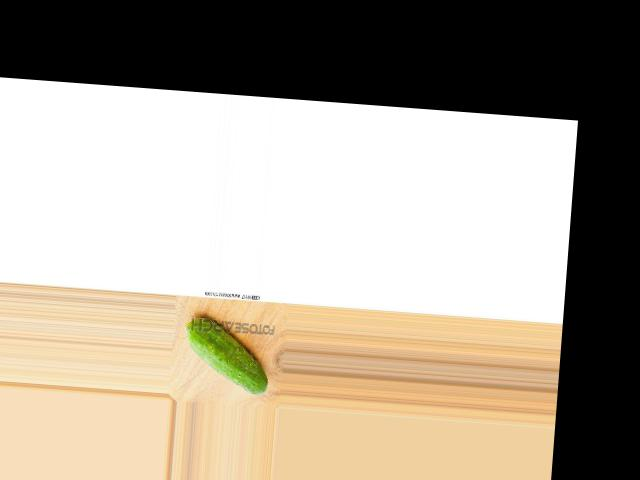cucumber: (180, 315, 272, 395)
